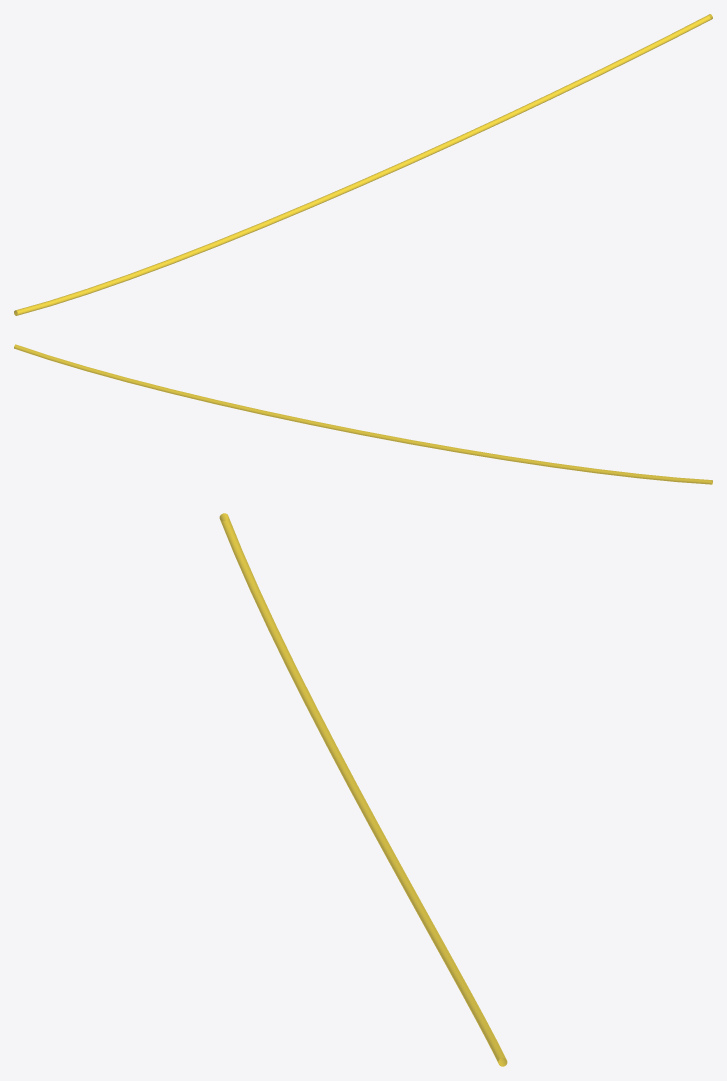
Rendered from Event_84804159_track_86.fbx.
3 views of the same model, one above another, from view 1: azimuth 30°, elevation 25°; view 2: azimuth 150°, elevation 25°; view 3: azimuth 270°, elevation 25° (orthographic). The views are drawn at different scales.
Parts seen in each view (by area): view 1: Model; view 2: Model; view 3: Model.
Part boxes in pixels (x1,y1,x2,y2): Model: [14, 14, 712, 315]; Model: [14, 344, 712, 484]; Model: [219, 513, 507, 1066].
Size of the model in its own units: 6.32 by 0.4155 by 1.25.
